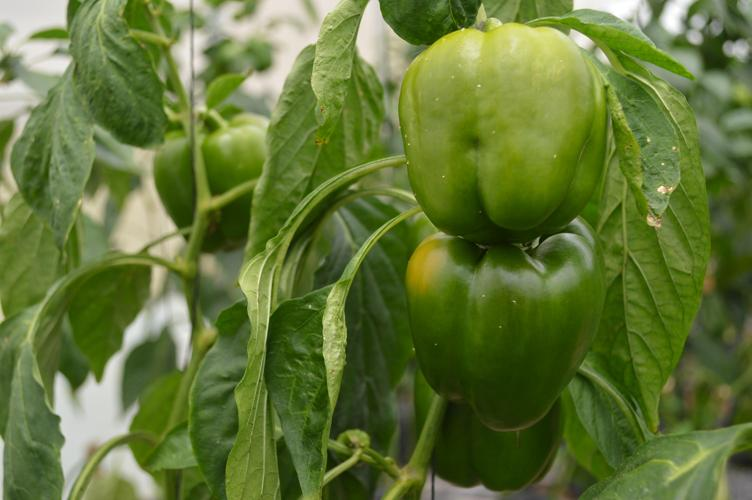BellPepper: (398, 23, 604, 239), (403, 220, 601, 429), (138, 113, 270, 258), (408, 376, 570, 491)
